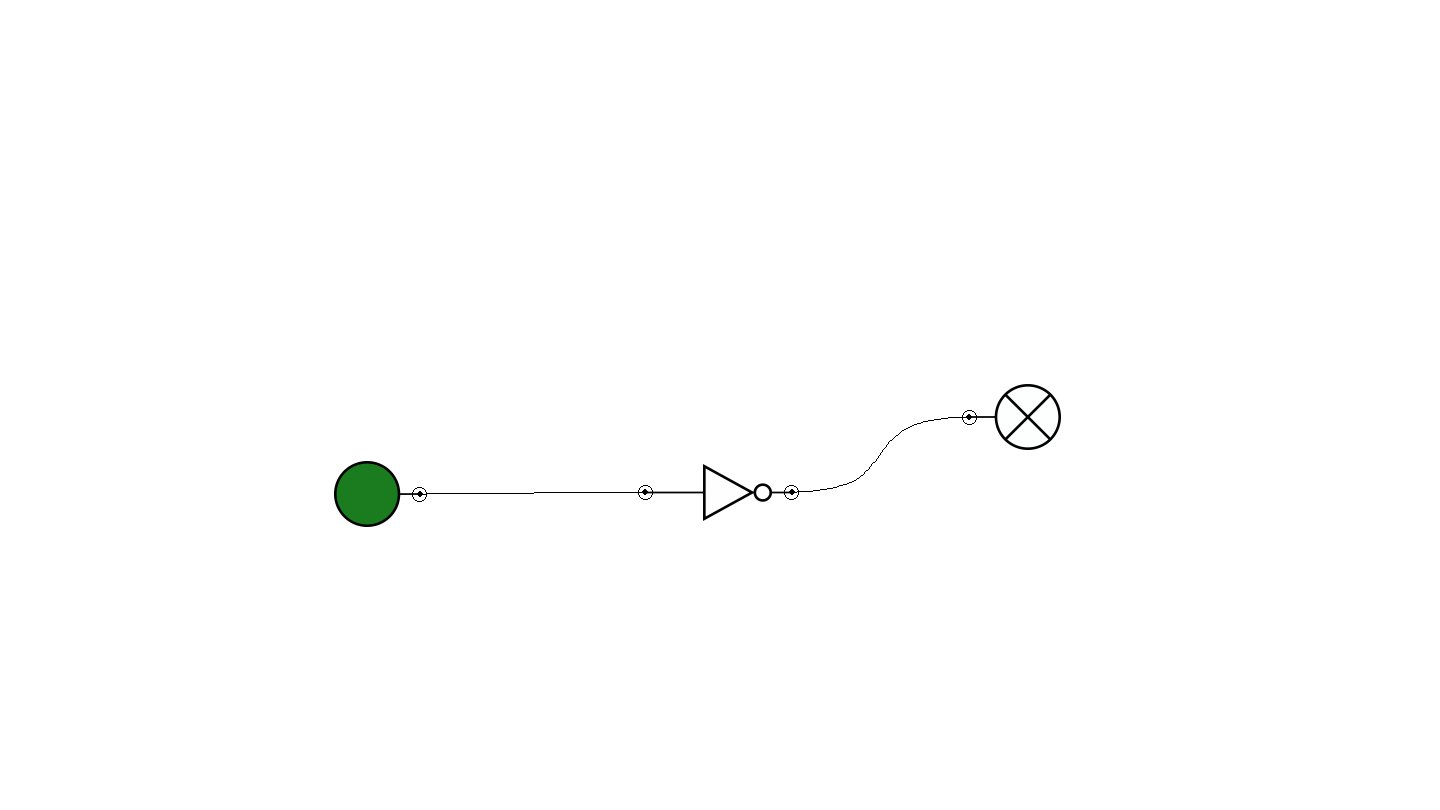bulb: (962, 384, 1061, 450)
not: (638, 464, 799, 521)
switch_True: (334, 461, 427, 527)
